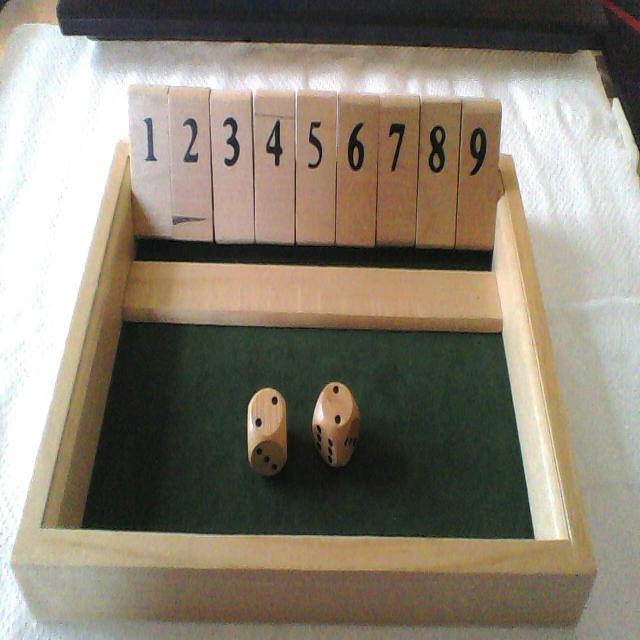2: (308, 369, 363, 445), (244, 382, 289, 450)
O1: (124, 88, 169, 323)
O2: (170, 88, 212, 324)
O3: (211, 92, 253, 326)
O4: (256, 91, 295, 326)
O5: (297, 90, 337, 329)
O6: (337, 92, 379, 330)
O7: (378, 96, 418, 331)
O8: (417, 96, 461, 332)
O9: (457, 99, 502, 332)
